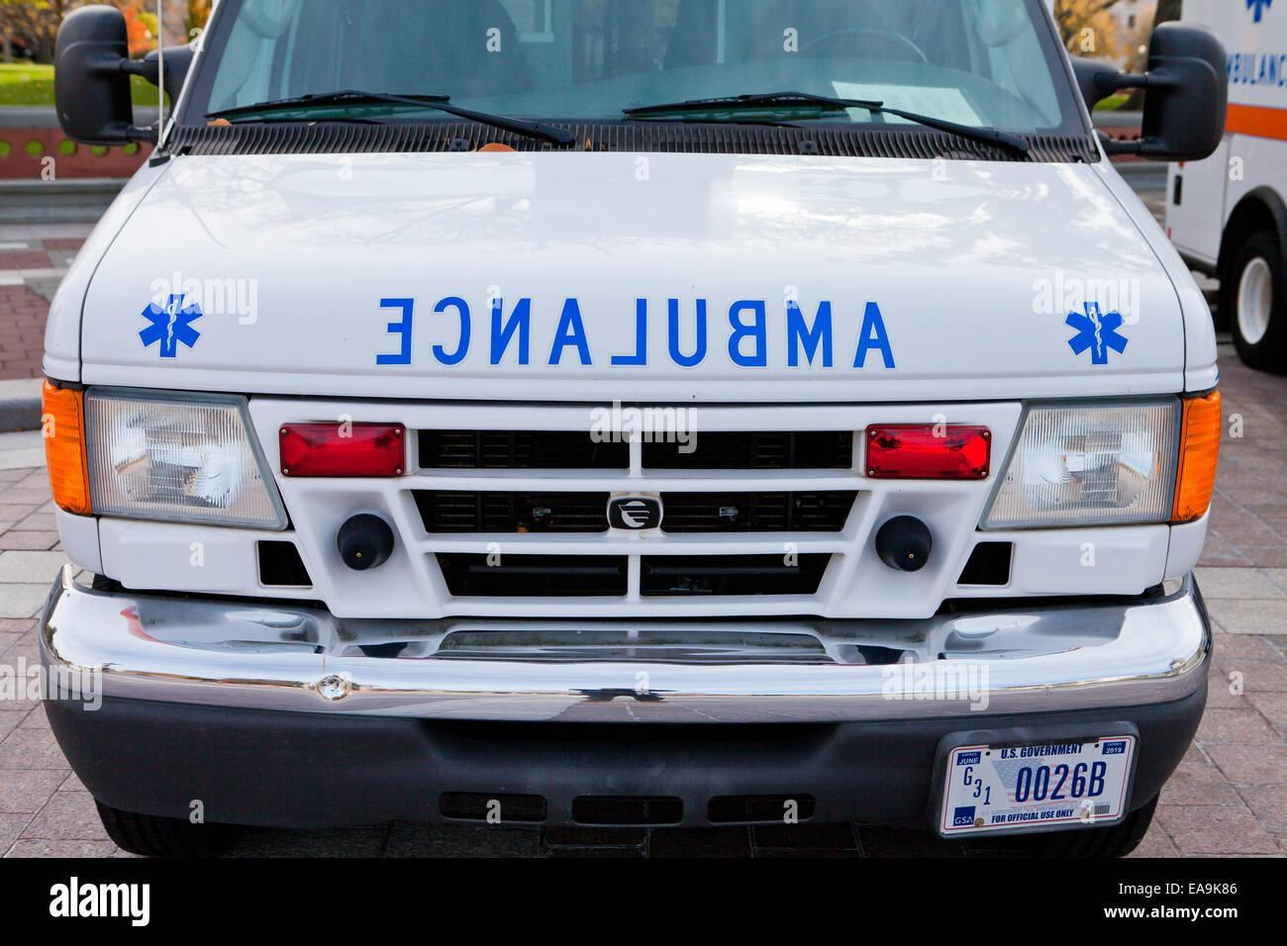Ambulance: (357, 274, 904, 387), (115, 280, 221, 370), (1046, 293, 1142, 379)
